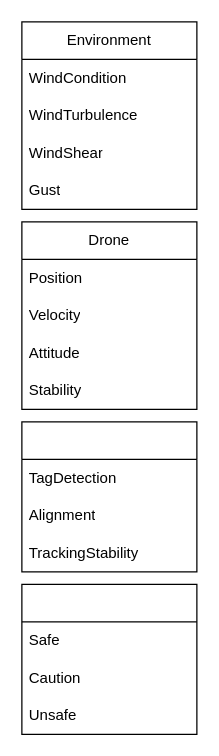
Some shapes in this 219 by 756 pixel diagram are drawn without their labels. The shapes that lost their labels are listed below. From the top down, each one's box as (x1, y1, x2, y2) in pixels, then its label:
(21, 421, 197, 572): Vision
(21, 583, 197, 734): Landing
